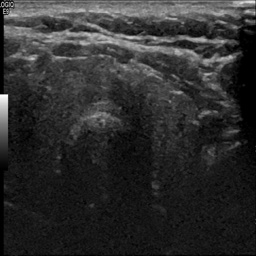mass: (110, 78, 136, 114)
